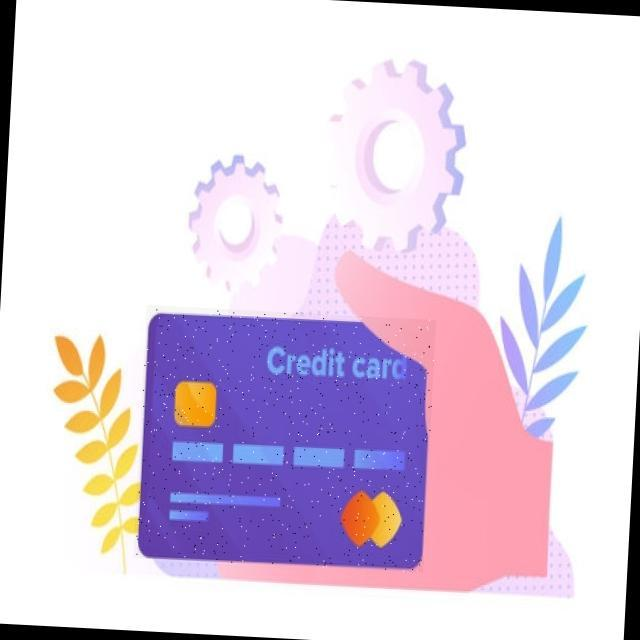payment_card: (137, 310, 430, 569)
